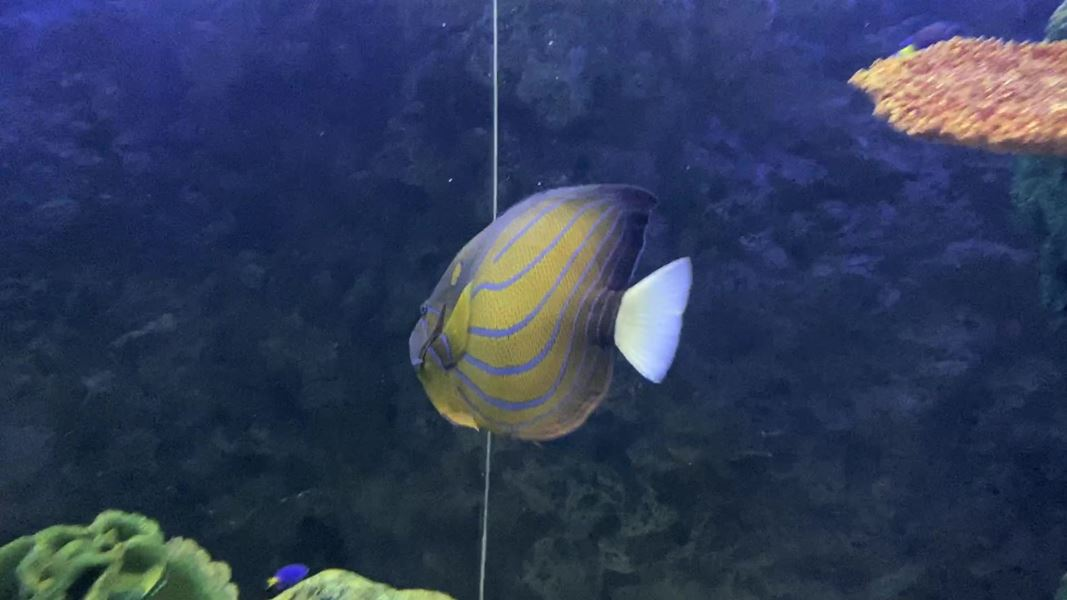Blue ring angelfish: (383, 169, 703, 456)
